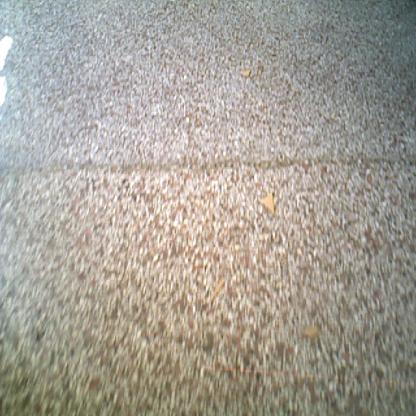dirty: (1, 33, 13, 109), (256, 188, 276, 217), (208, 278, 226, 304), (300, 323, 320, 341), (238, 67, 251, 79)
